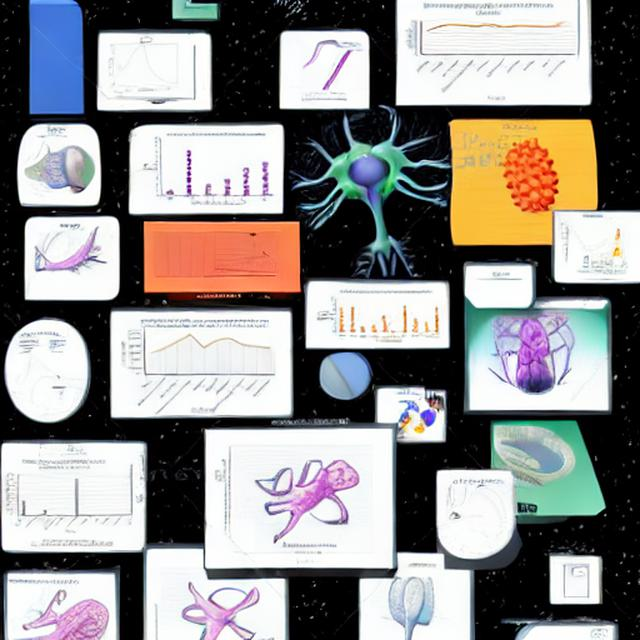Graph: (401, 1, 574, 102), (118, 316, 279, 413), (138, 128, 278, 210), (2, 458, 126, 536), (309, 288, 444, 345), (104, 37, 185, 93)
